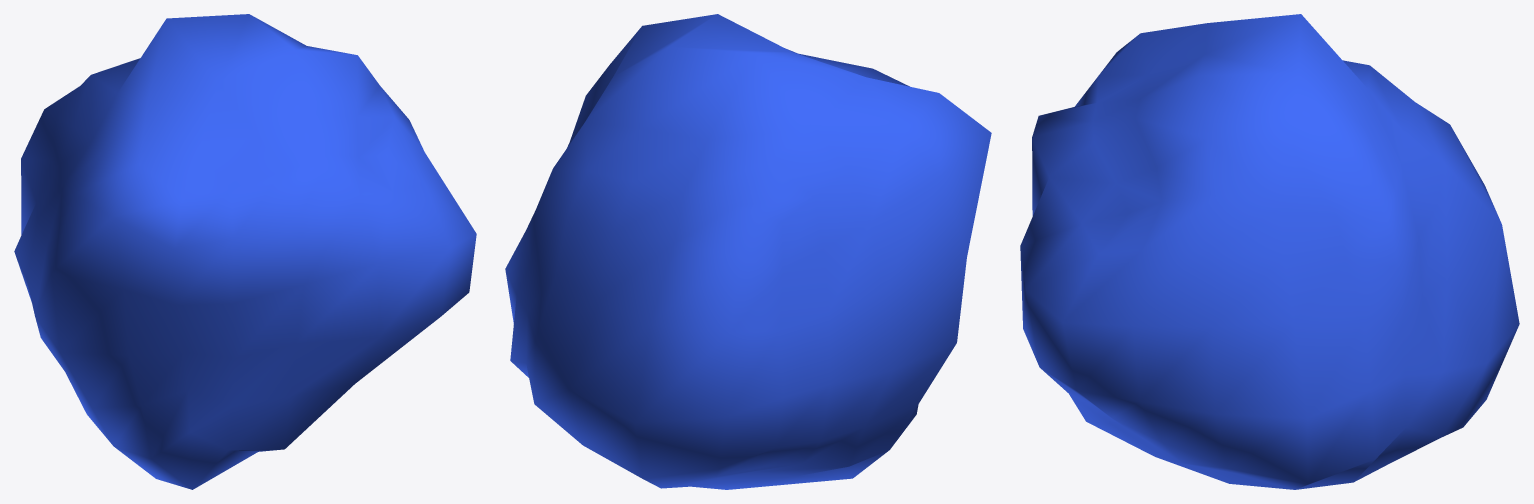
Rendered from Stone02.FBX.
3 renders of one model, left to right at view 1: azimuth 30°, elevation 25°; view 2: azimuth 150°, elevation 25°; view 3: azimuth 270°, elevation 25°, orthographic. The views are drawn at different scales.
Visible parts, largest first — view 1: rockLP006; view 2: rockLP006; view 3: rockLP006.
Boxes of the visible parts, <box> form: rockLP006: <box>14,14,476,489</box>; rockLP006: <box>505,14,991,489</box>; rockLP006: <box>1020,14,1519,489</box>.
Size of the model in its own units: 2.49 by 2.55 by 2.53.
